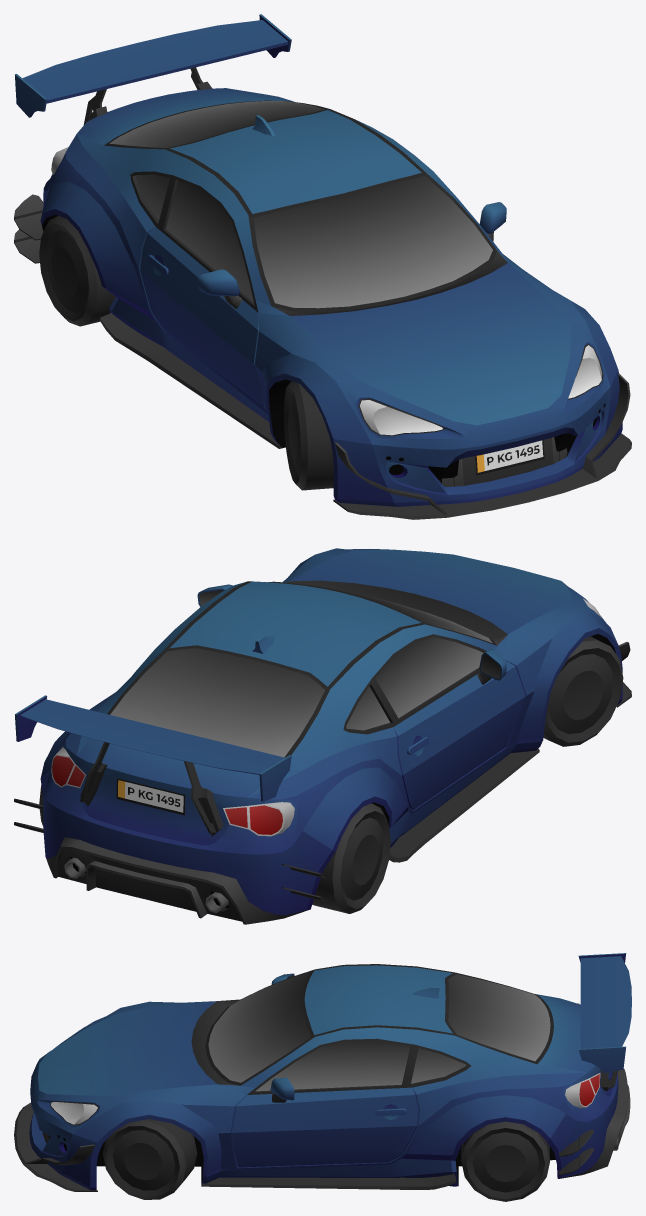
The picture shows the model from 3 angles, top to bottom: view 1: azimuth 30°, elevation 25°; view 2: azimuth 150°, elevation 25°; view 3: azimuth 270°, elevation 25°; orthographic projection. The views are drawn at different scales.
Visible parts, largest first — view 1: Chassis.001, RRW.001, FRW.001, License Plate Front.001; view 2: Chassis.001, FRW.001, RRW.001, License Plate Back.001; view 3: Chassis.001, FLW.001, RLW.001.
Part boxes in pixels (x1,y1,x2,y2): Chassis.001: (14,14,631,519); RRW.001: (39,215,115,326); FRW.001: (284,381,333,490); License Plate Front.001: (475,440,544,475); Chassis.001: (14,548,631,924); FRW.001: (543,636,623,746); RRW.001: (312,803,390,913); License Plate Back.001: (116,778,185,815); Chassis.001: (14,953,631,1191); FLW.001: (103,1119,197,1199); RLW.001: (461,1121,549,1201).
Bounding box in the file's own units: 2.22 × 1.34 × 4.72.
2 materials, 2 textured.
